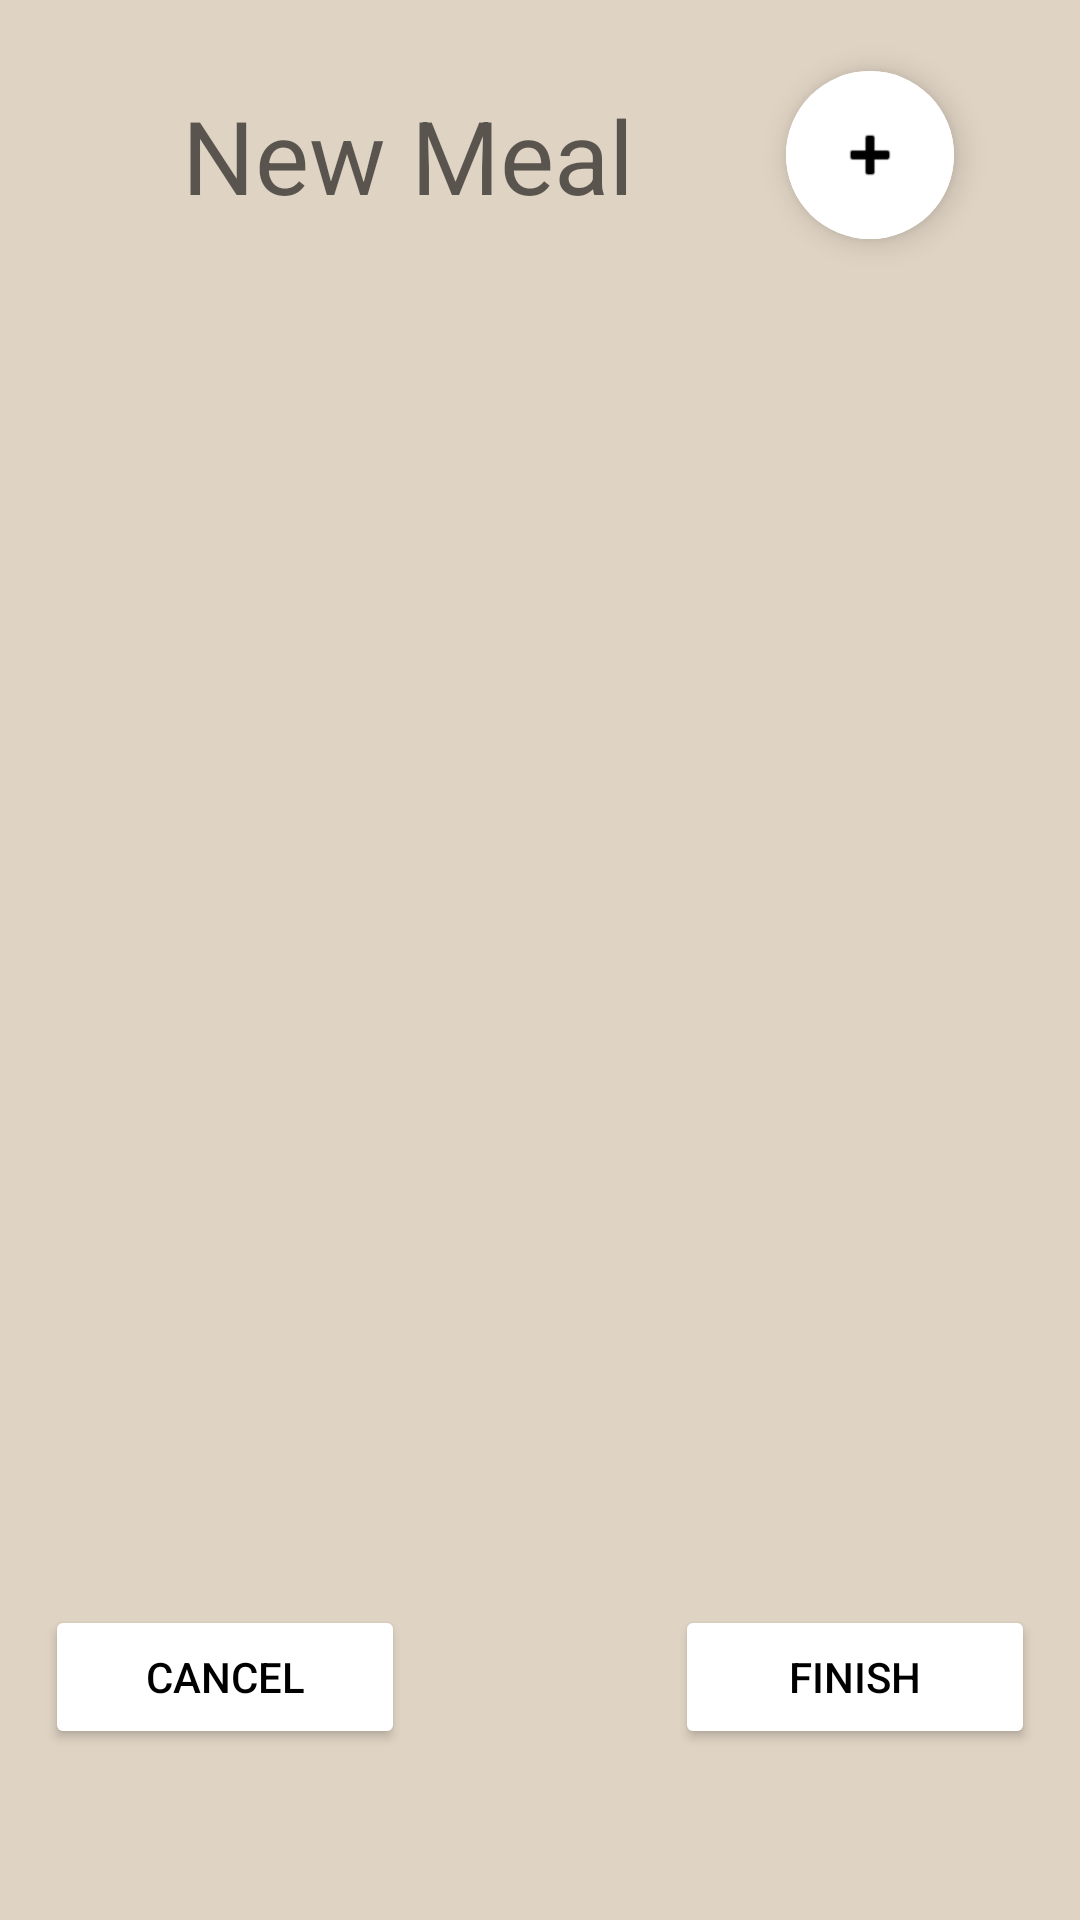

Screen size 1080*1920. Icon name, then its center in pixels as point (x, y):
add: point (870, 155)
